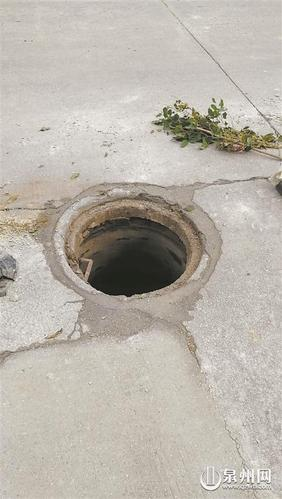lose: (39, 179, 227, 308)
